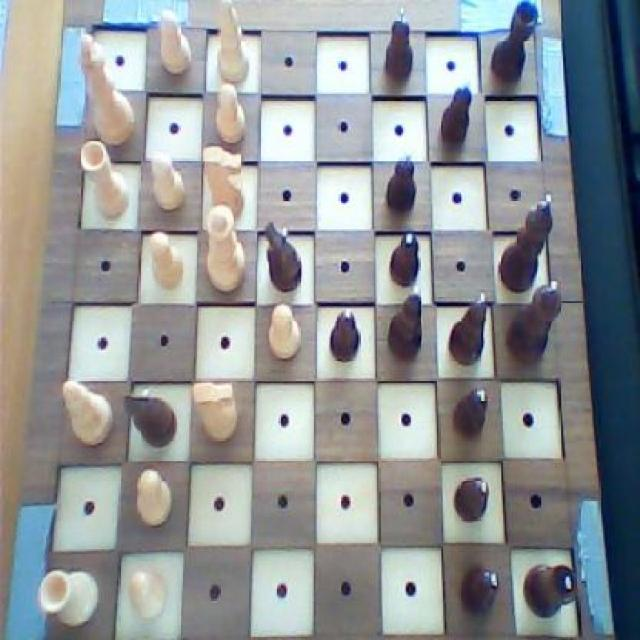bishop: (383, 286, 429, 368), (444, 286, 490, 368)
black-bishop: (497, 192, 558, 293)
black-king: (122, 386, 180, 452), (260, 218, 306, 296)
black-knight: (435, 75, 474, 151), (381, 5, 417, 86), (456, 558, 502, 617), (384, 148, 418, 219), (449, 384, 490, 440), (451, 470, 492, 526), (325, 304, 362, 364), (386, 228, 423, 288)
black-pawn: (502, 278, 562, 369)
black-queen: (491, 0, 542, 91), (518, 554, 581, 621)
black-rook: (60, 376, 115, 452), (214, 0, 252, 88)
white-bishop: (76, 29, 140, 148)
white-king: (189, 378, 239, 448)
white-knight: (152, 8, 195, 83), (130, 465, 176, 532), (263, 297, 305, 365), (209, 81, 251, 146), (147, 228, 186, 295), (148, 146, 187, 213), (129, 562, 168, 620)
white-pawn: (205, 205, 248, 298), (202, 144, 248, 226)
white-queen: (36, 563, 101, 631), (80, 137, 132, 221)
